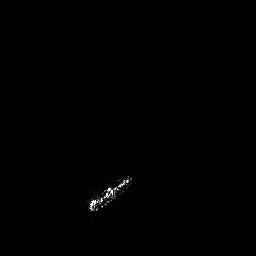ship: (83, 171, 138, 216)
